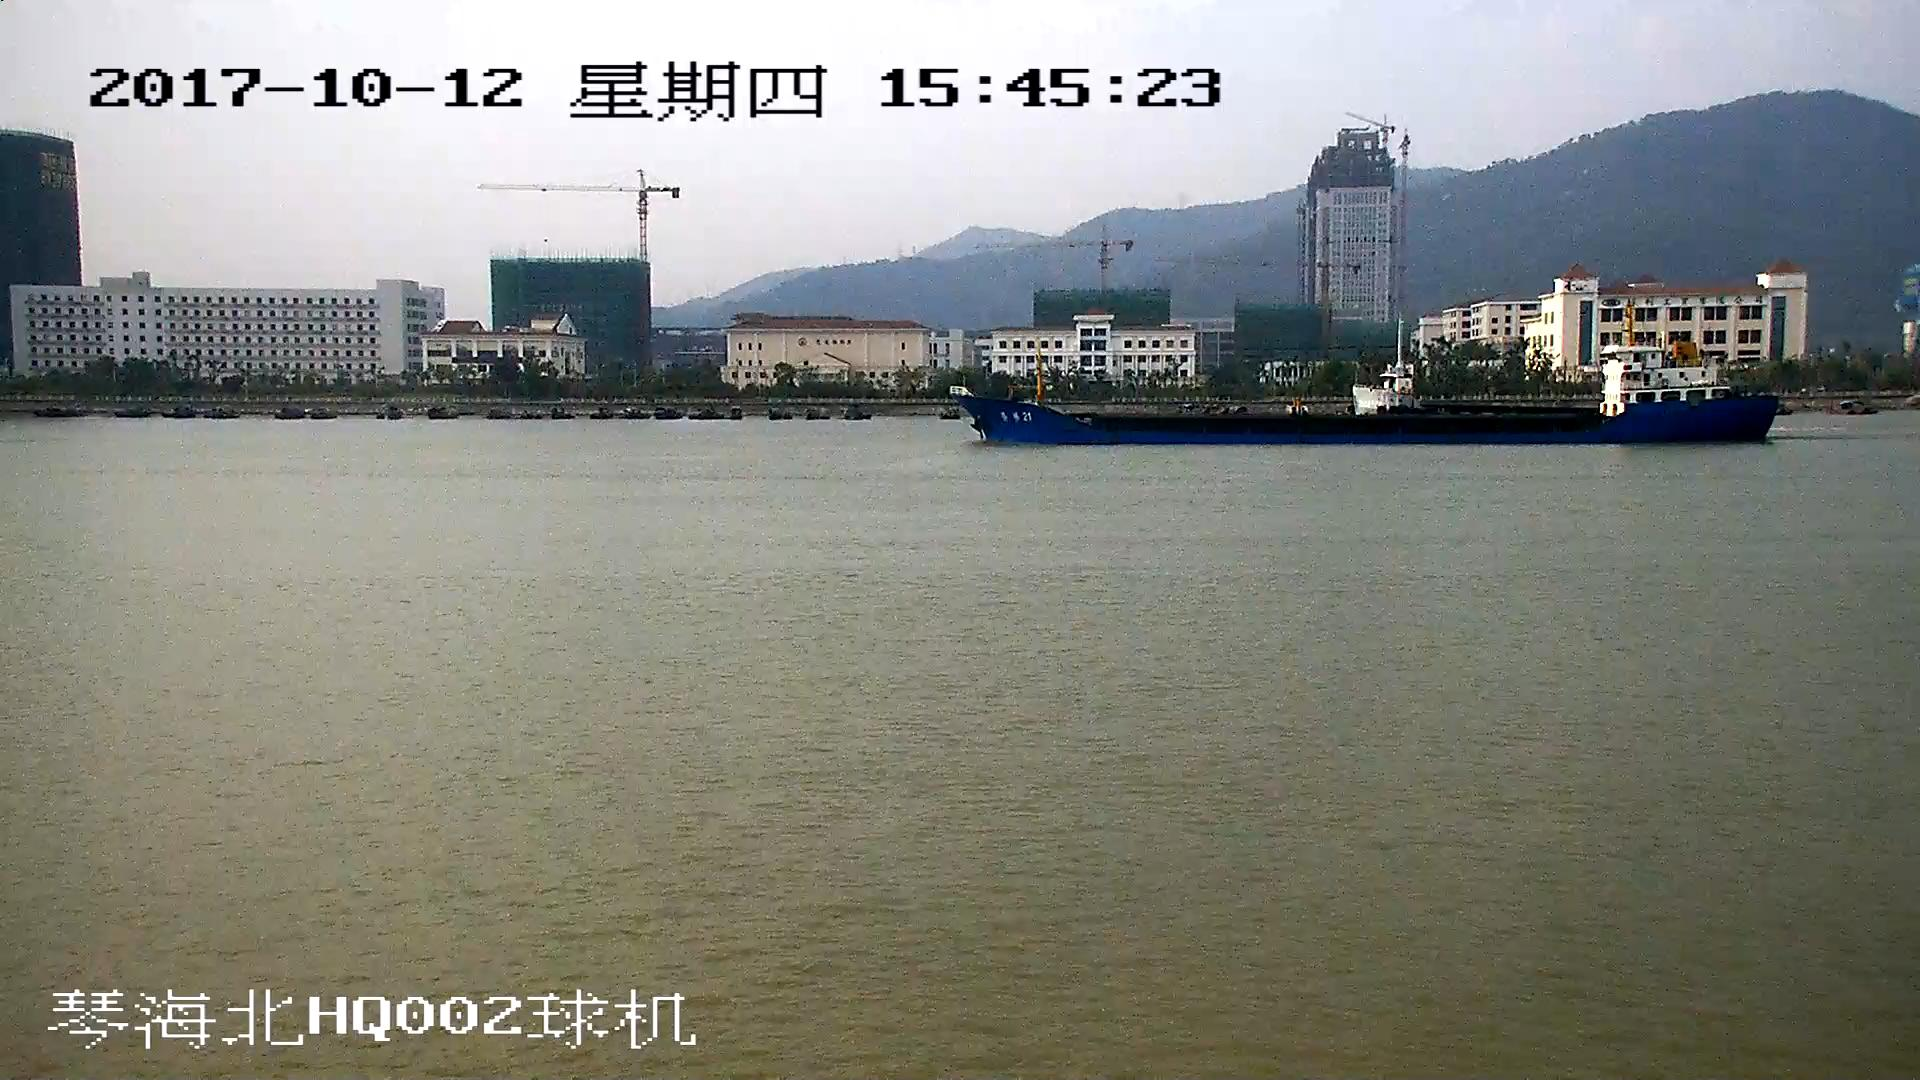general cargo ship: (951, 311, 1782, 444)
